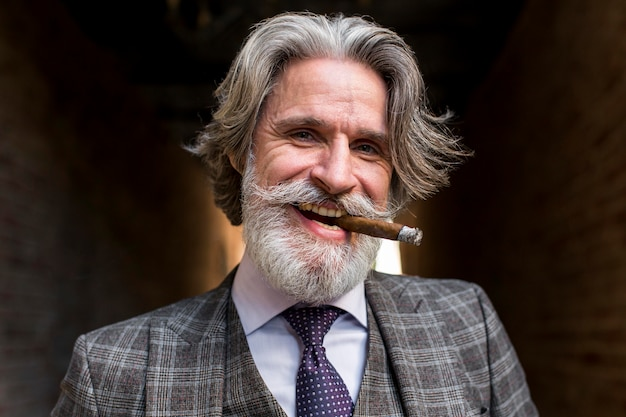cigarette: (335, 214, 425, 247)
